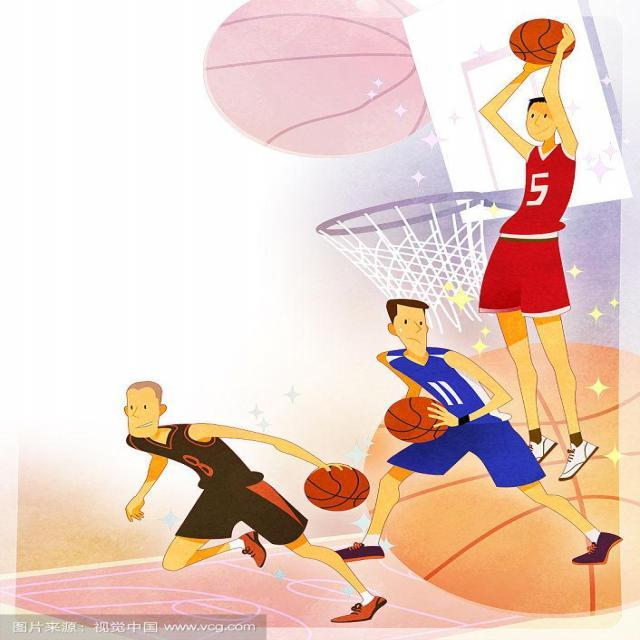rim: (306, 464, 370, 512), (511, 20, 574, 64), (388, 396, 448, 439)
